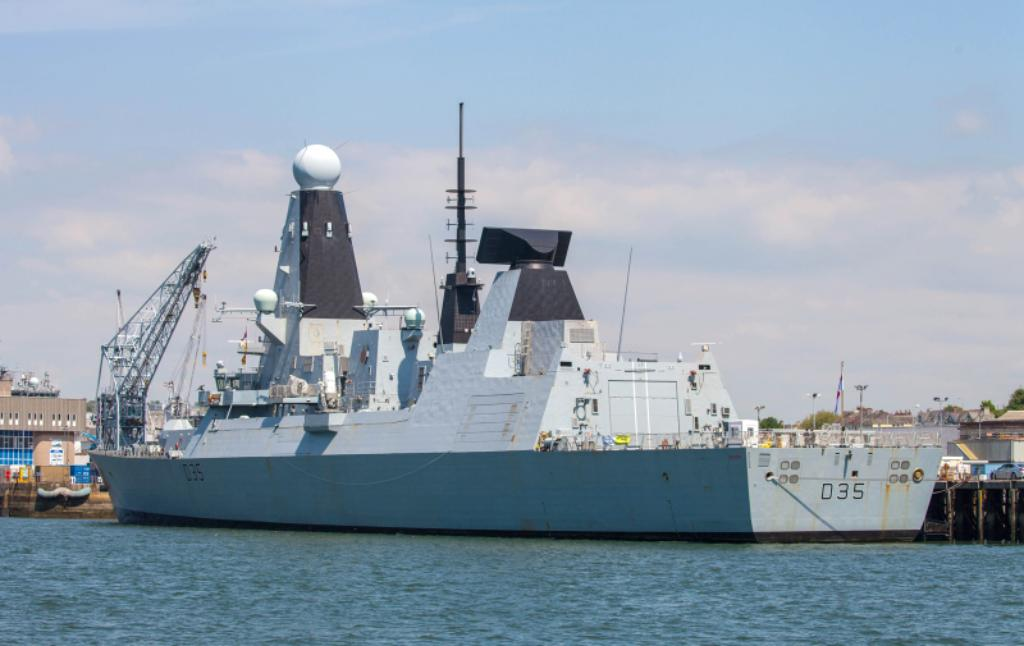Warship: (82, 97, 962, 540)
